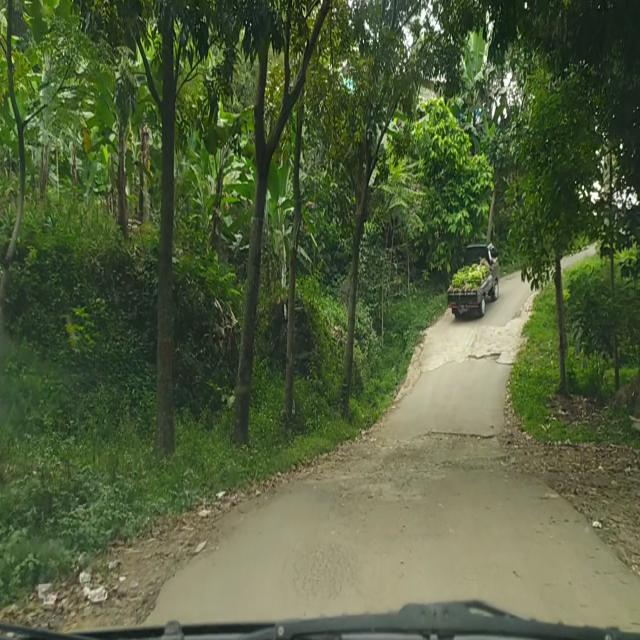Drain Hole: (280, 541, 358, 599)
